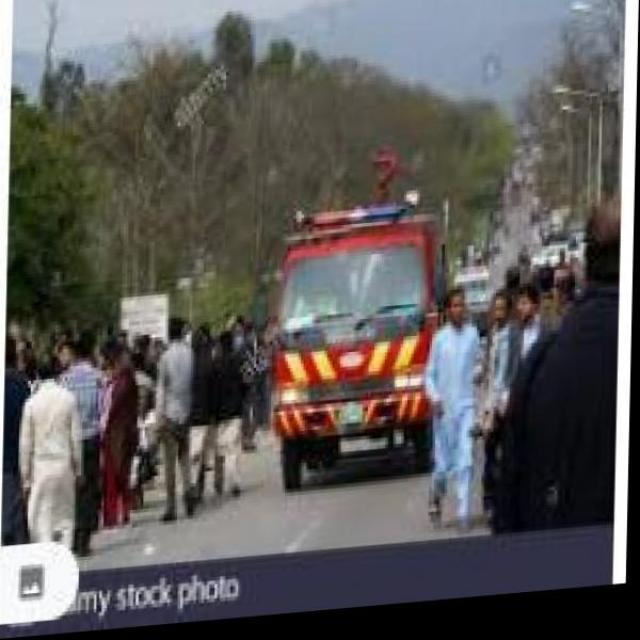emergency: (264, 198, 450, 490)
